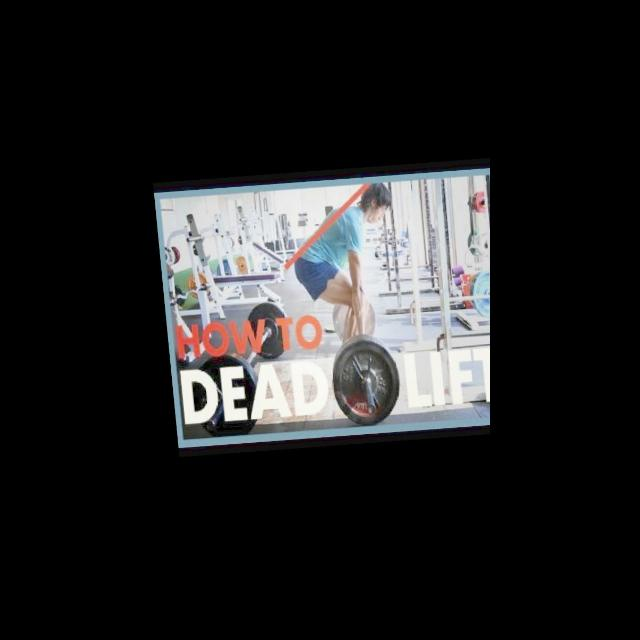barbell: (322, 338, 400, 432)
